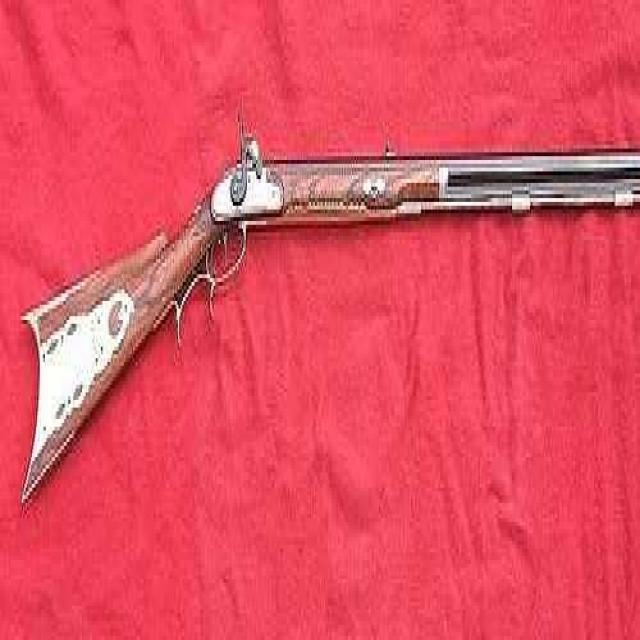weapon: (27, 49, 640, 514)
